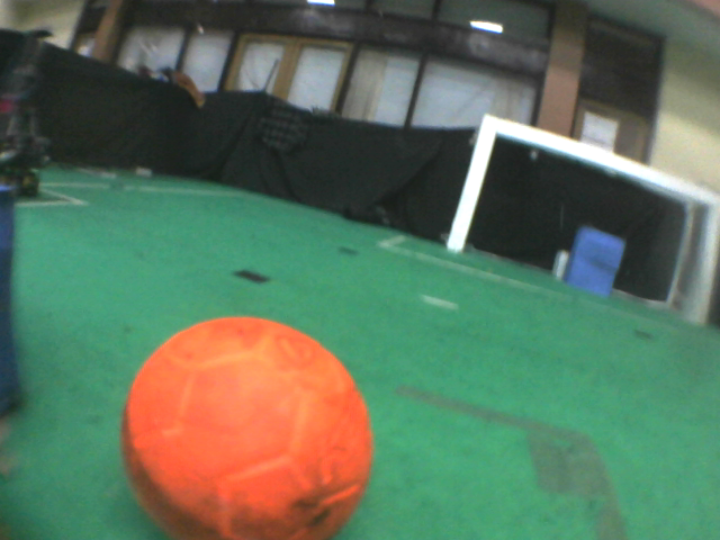bola: (116, 310, 385, 540)
